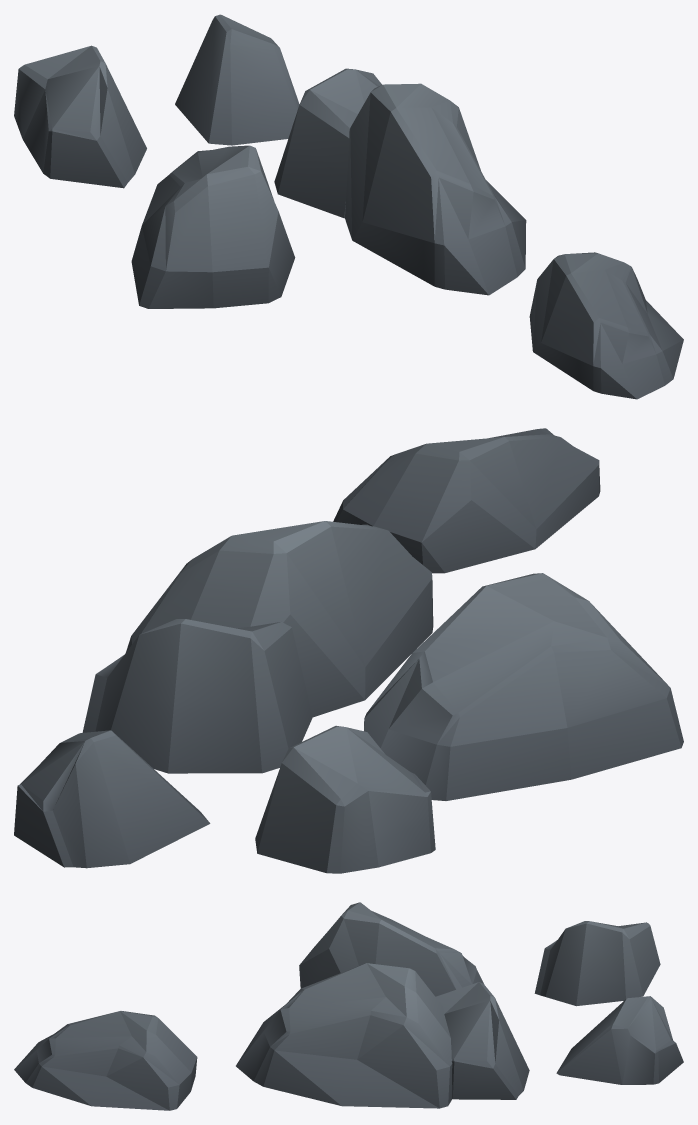
Rendered from stone.fbx.
3 views of the same model, one above another, from view 1: azimuth 30°, elevation 25°; view 2: azimuth 150°, elevation 25°; view 3: azimuth 270°, elevation 25° (orthographic). The views are drawn at different scales.
Visible parts, largest first — view 1: stone; view 2: stone; view 3: stone.
Part boxes in pixels (bbox=[...]): stone: bbox=[14, 14, 683, 399]; stone: bbox=[14, 428, 683, 873]; stone: bbox=[14, 902, 683, 1110].
Bounding box in the file's own units: 70.78 × 22.36 × 134.
Materials: 1 (1 with a texture image).
